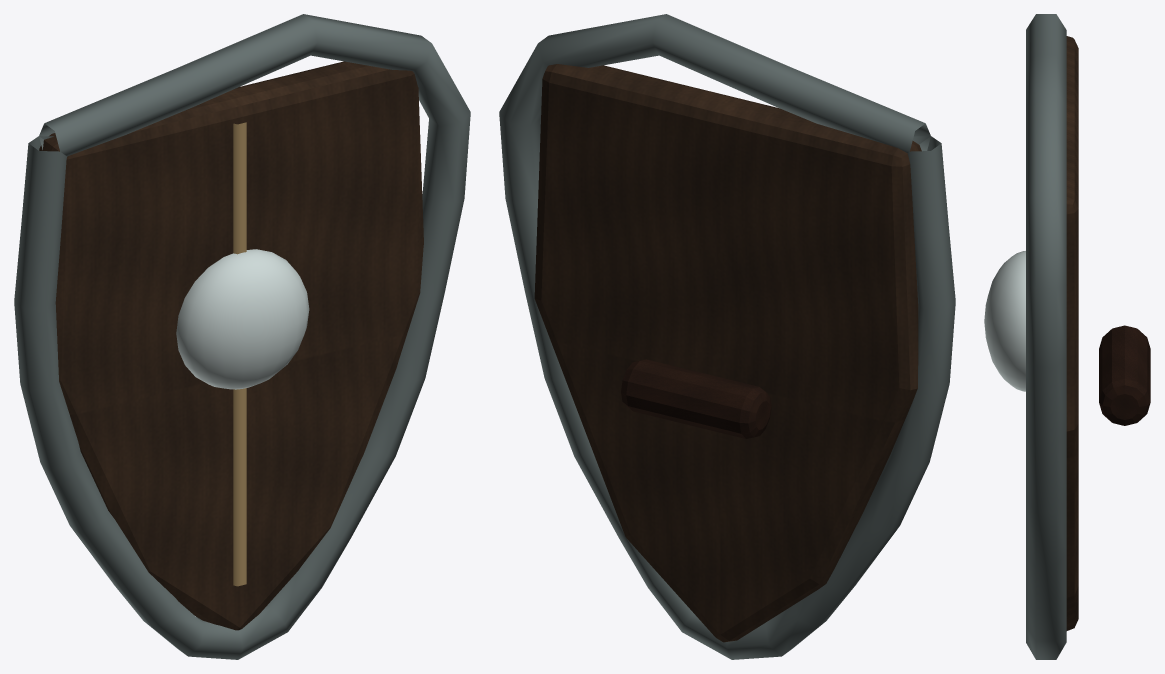
File: shield.glb
3 renders of one model, left to right at view 1: azimuth 30°, elevation 25°; view 2: azimuth 150°, elevation 25°; view 3: azimuth 270°, elevation 25°, orthographic. The views are drawn at different scales.
Parts seen in each view (by area): view 1: Part_Oak honey, Part_Blackened iron.001, Part_Steel, Part_Aged brass.002; view 2: Part_Oak honey, Part_Blackened iron.001, Part_Oiled leather.008; view 3: Part_Blackened iron.001, Part_Oak honey, Part_Oiled leather.008, Part_Steel.
Boxes of the visible parts, left/top/right/bottom form: Part_Oak honey: left=39, top=61, right=423, bottom=630; Part_Blackened iron.001: left=14, top=14, right=470, bottom=659; Part_Steel: left=176, top=249, right=309, bottom=389; Part_Aged brass.002: left=233, top=122, right=246, bottom=586; Part_Oak honey: left=534, top=64, right=921, bottom=642; Part_Blackened iron.001: left=499, top=14, right=955, bottom=659; Part_Oiled leather.008: left=621, top=359, right=771, bottom=438; Part_Blackened iron.001: left=1026, top=14, right=1066, bottom=659; Part_Oak honey: left=1066, top=36, right=1078, bottom=630; Part_Oiled leather.008: left=1099, top=325, right=1150, bottom=425; Part_Steel: left=984, top=251, right=1025, bottom=391.
Bounding box in the file's own units: 0.5356 × 0.711 × 0.18.
Materials: 6 (3 with a texture image).
